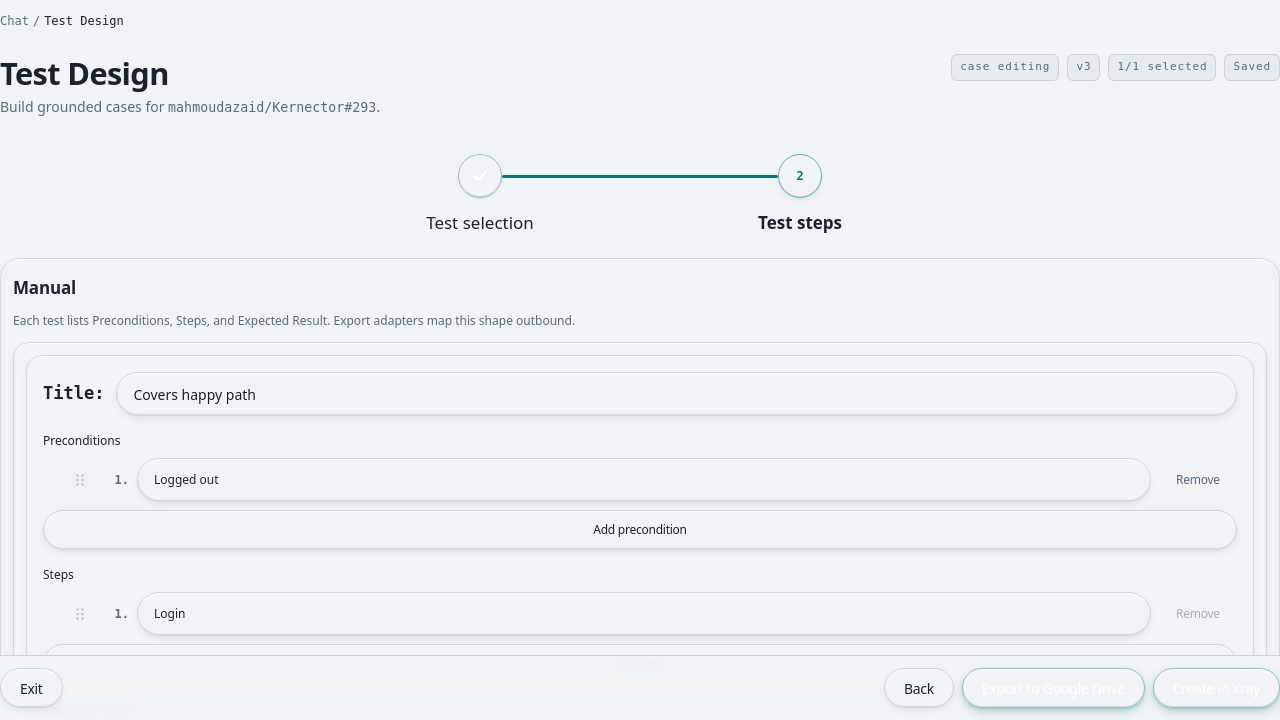
Test: TestDesignWorkspace › Create in Xray › shows the server's reason when Xray rejects the export
The width and height of the screenshot is (1280, 720).
Click the button "Create in Xray" at (1216, 688), box [1153,668,1279,708]
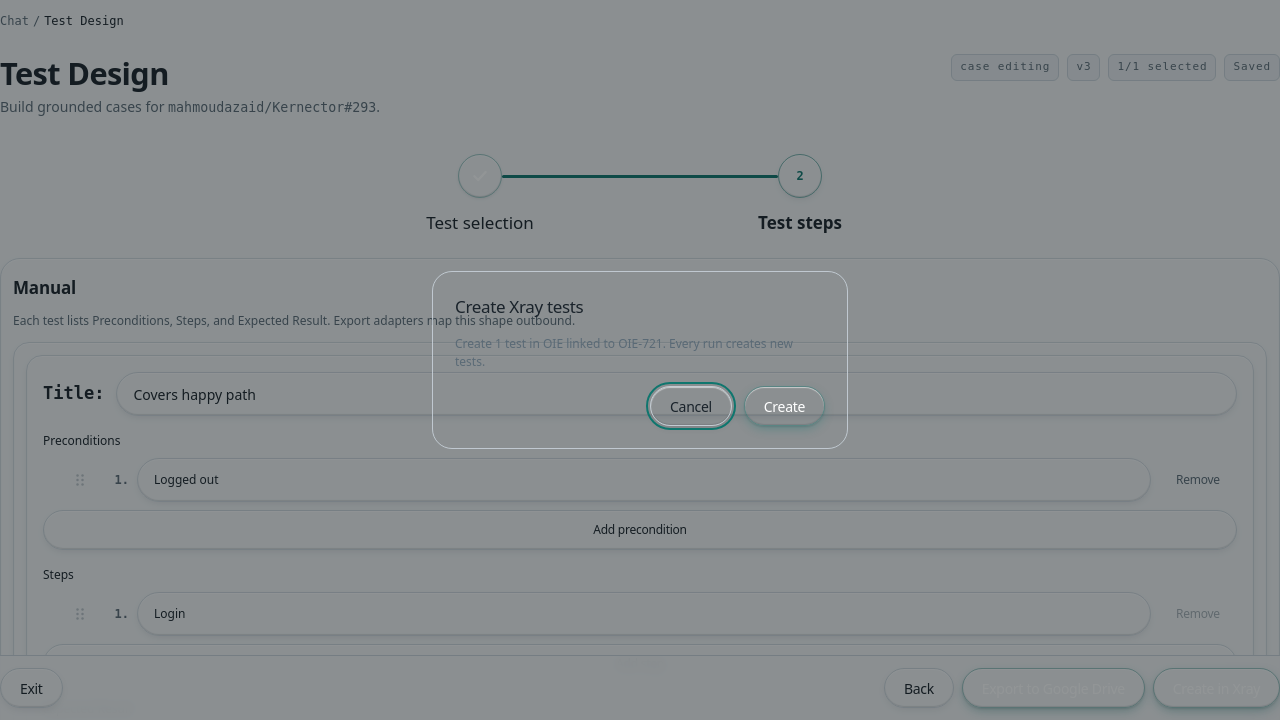
Click the button "Create" at (784, 406), box [744,386,825,426]
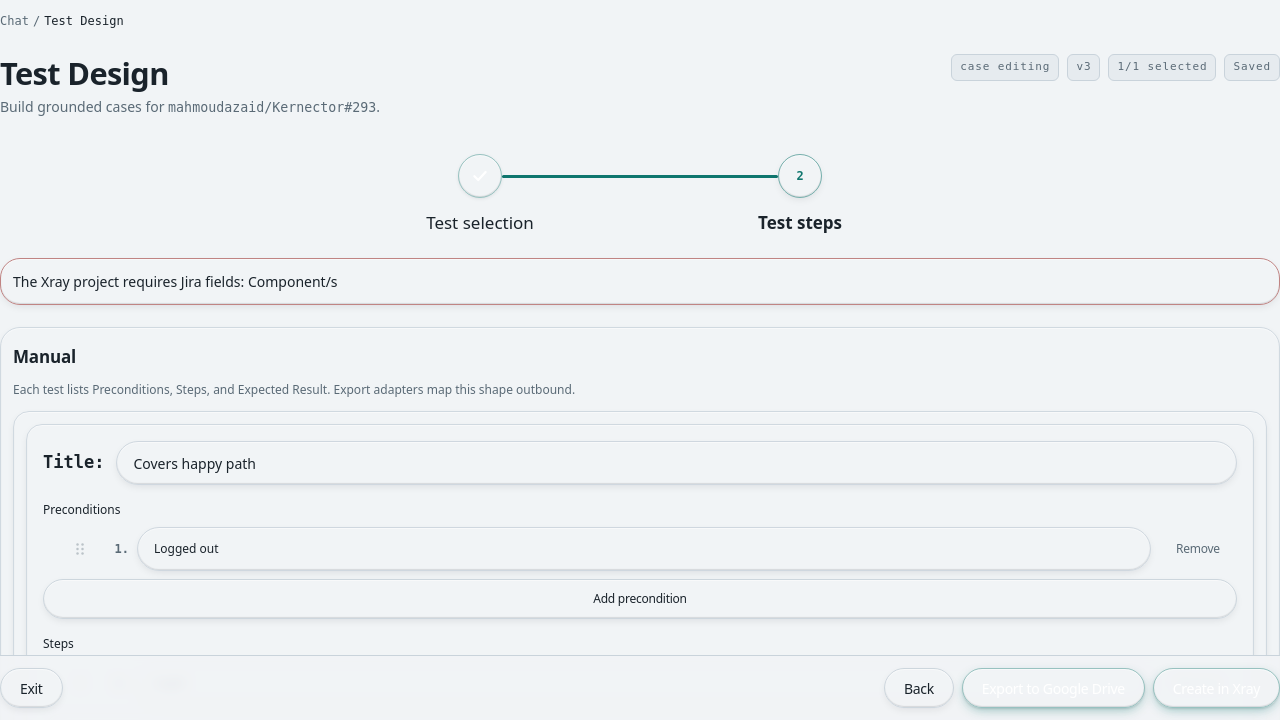
Now the message "The Xray project requires Jira fields: Component/s" is shown, box [0,258,1279,304]
